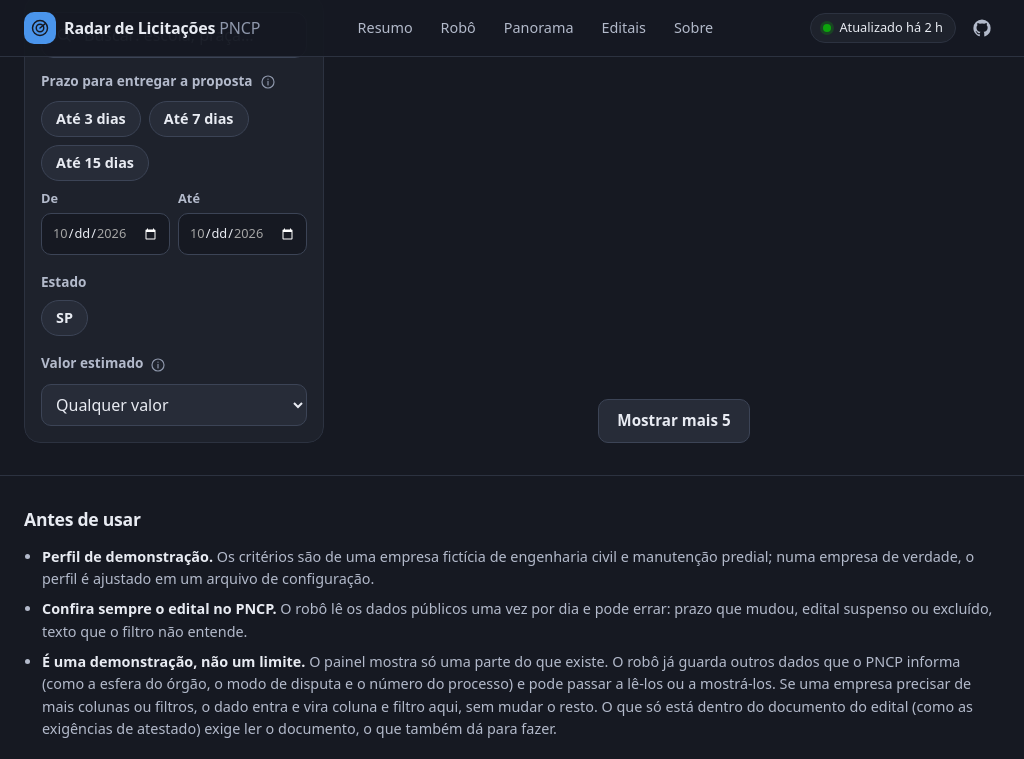
App › mostra 30 de cada vez e pede para mostrar mais
The image size is (1024, 759).
(page scrolled)
What coordinates should you click on to do the following:
click the button "Mostrar mais 5"
I would click on:
 (674, 421)
Its box is [598,399,750,443].
(page scrolled)
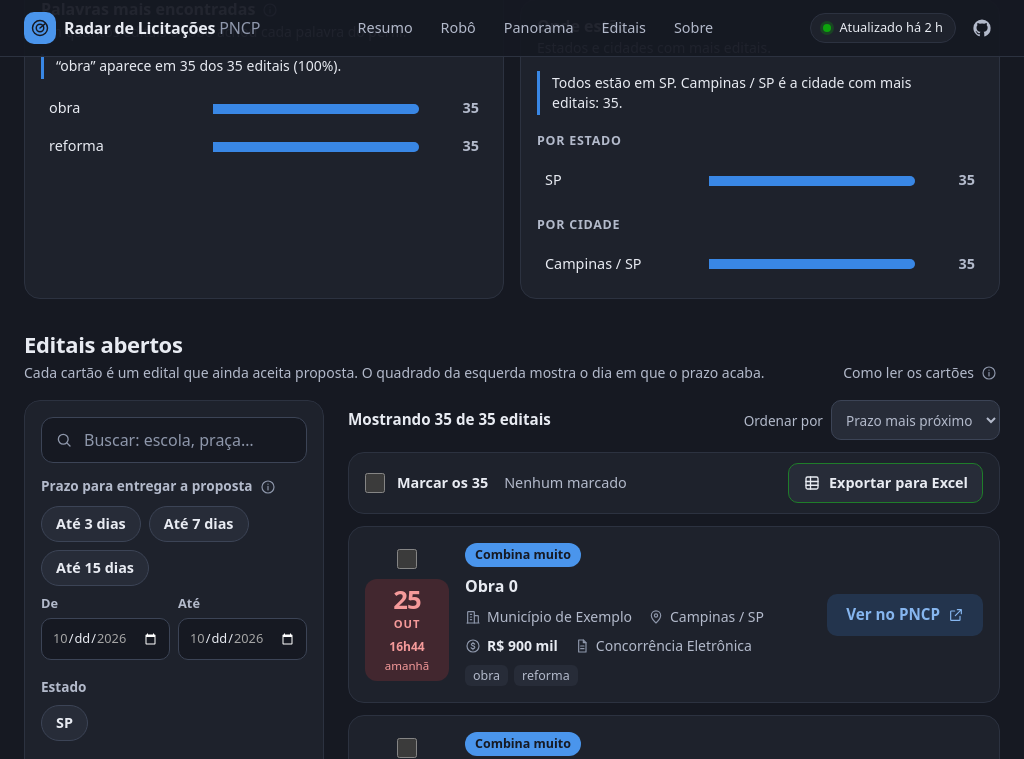
expect the text "Mostrando 35 de 35 editais" is shown: met, box [348,408,551,432]
expect the button "Mostrar mais" is gone: met
